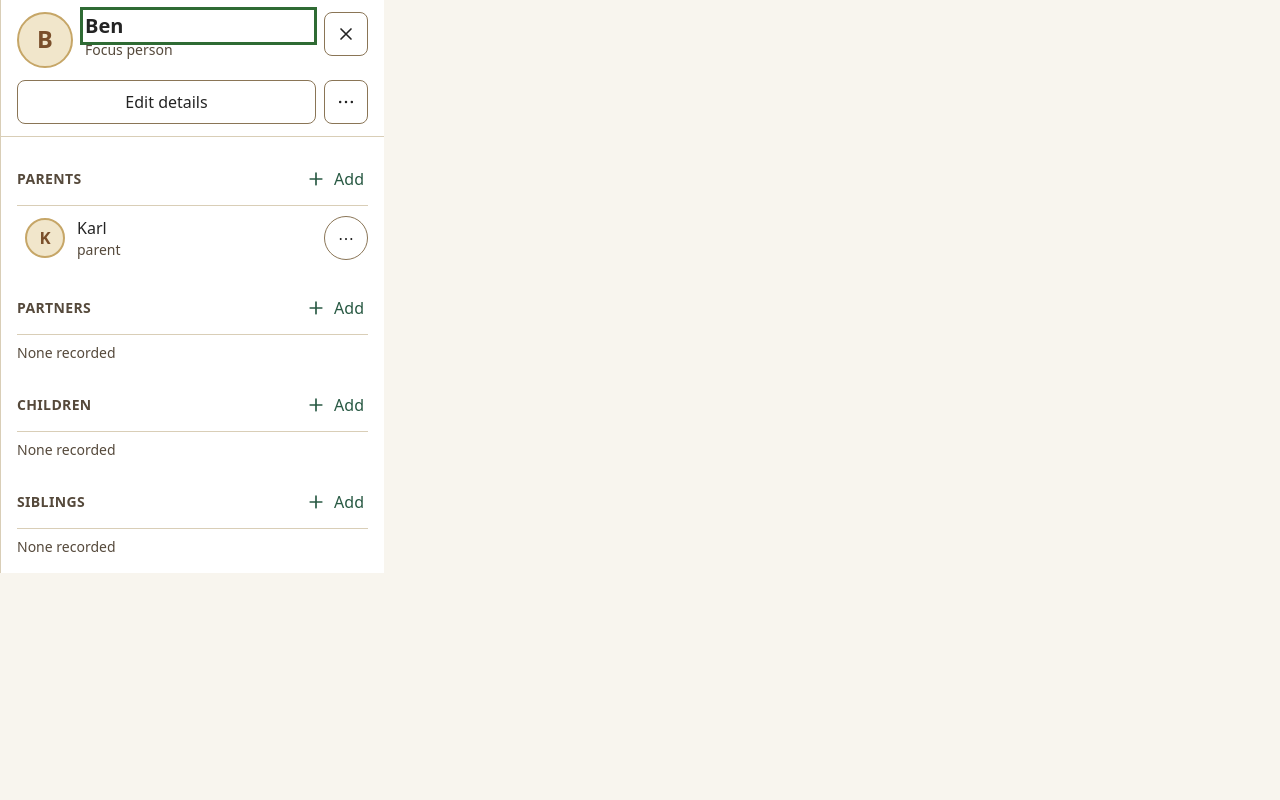
Scenario: the picker › says so when nobody can be linked
Click the button with aria-label "Add parent" at (335, 179), box [294,157,376,201]
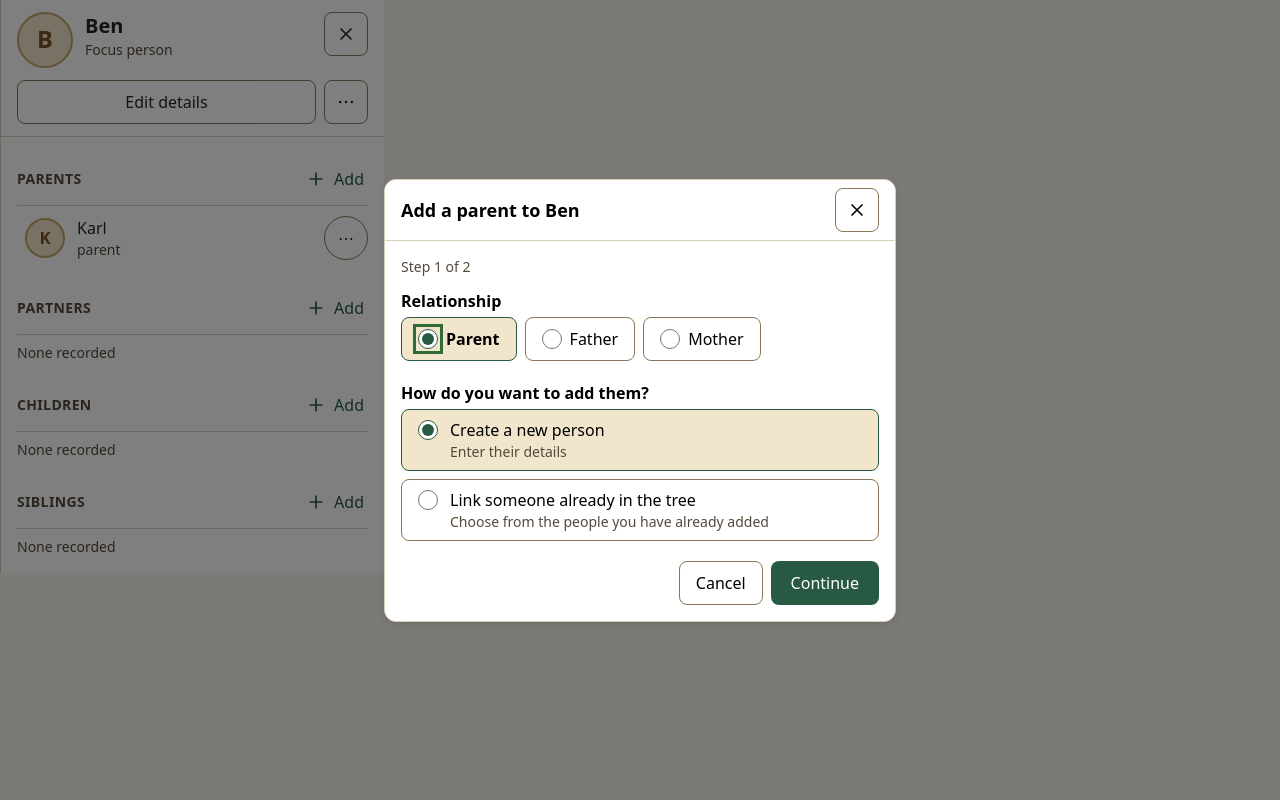
Click the radio button labelled "Father" at (552, 338), box [542,328,562,348]
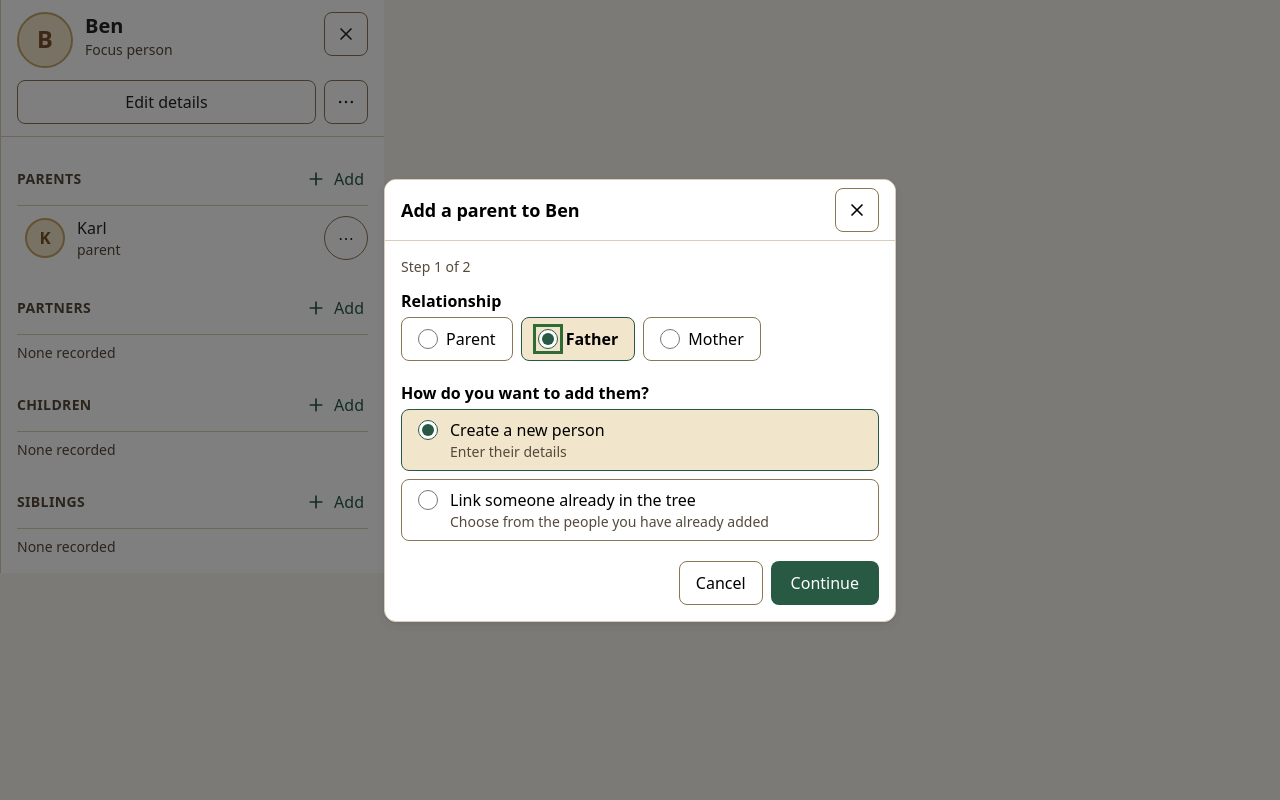
Click the radio button labelled "Link someone" at (428, 500), box [418,490,438,510]
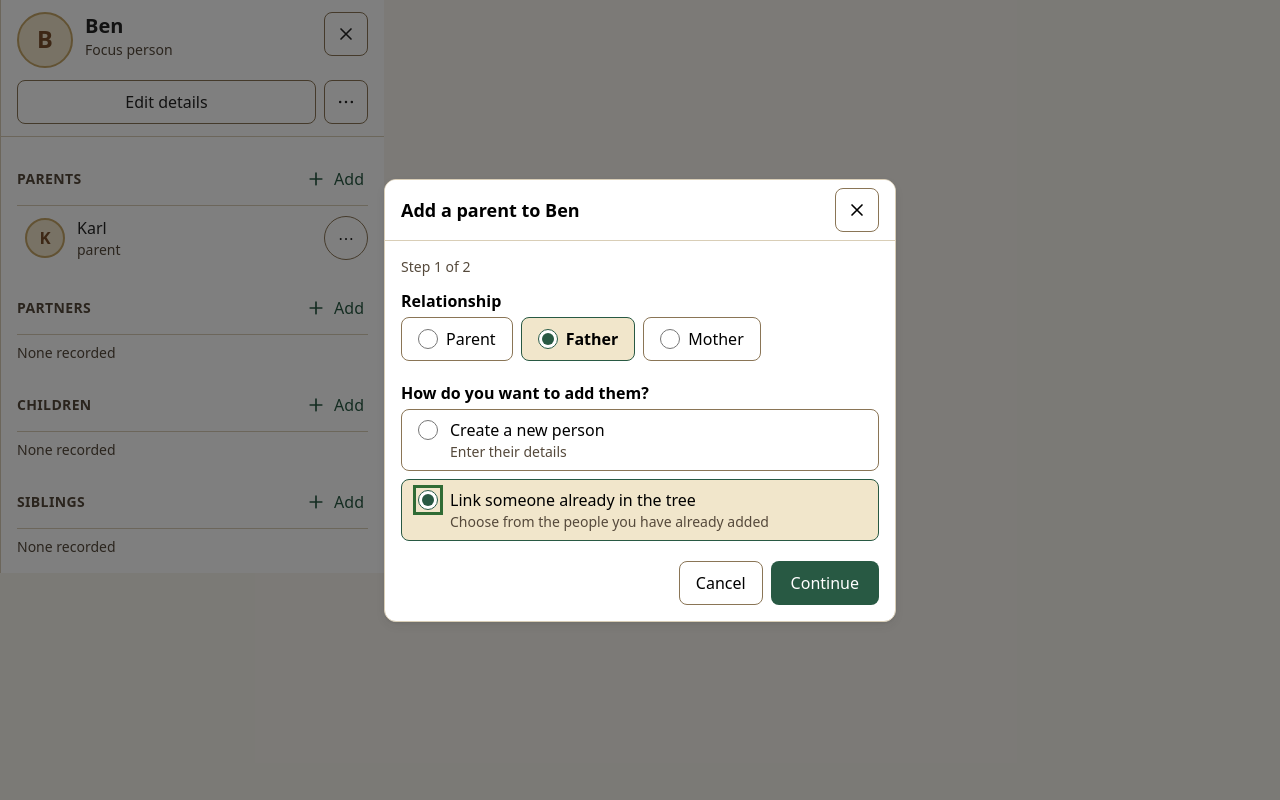
Click the button "Continue" at (825, 582), box [771,560,879,604]
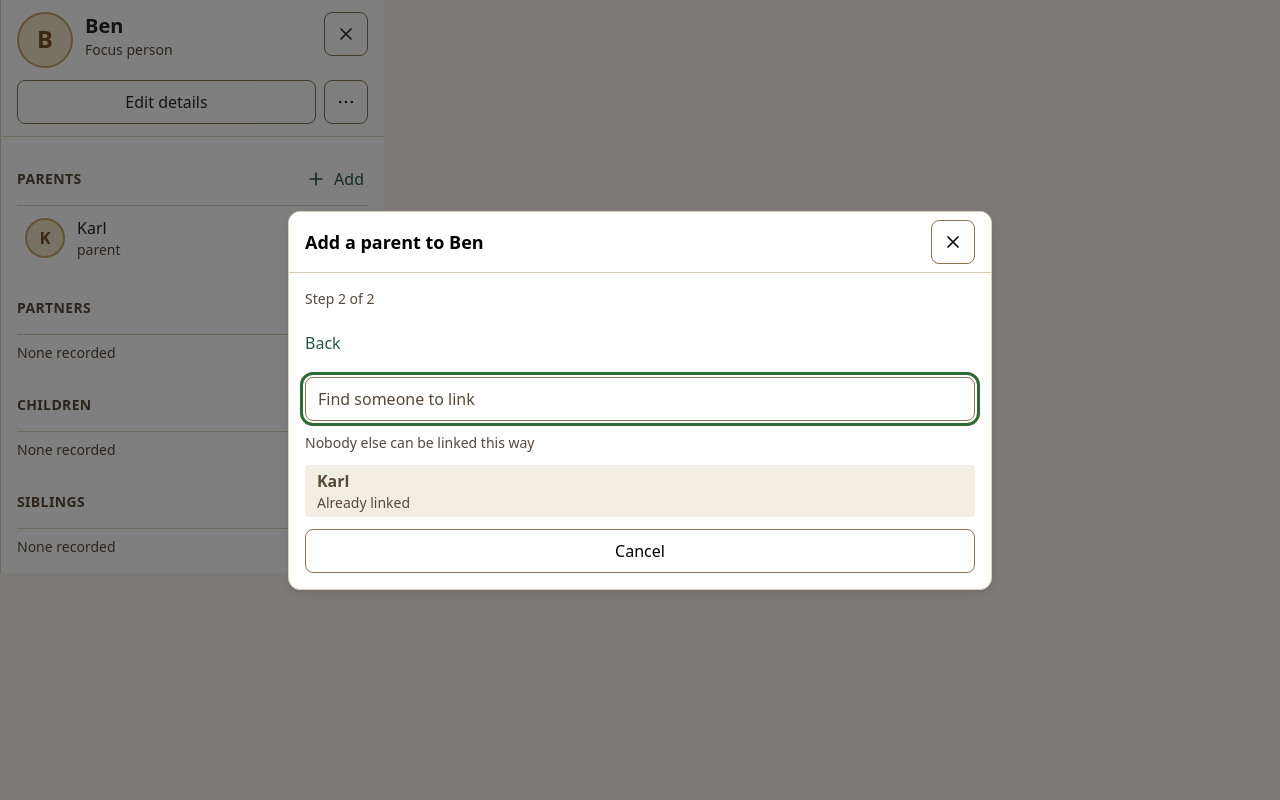
Result: the text "Nobody else can be linked this way" is shown at [305,432,534,452]
